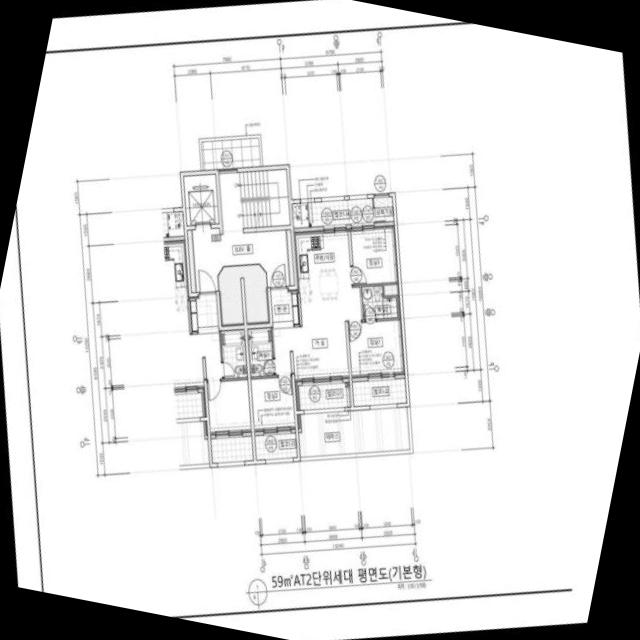background: (0, 0, 640, 640)
space_balconi: (292, 198, 373, 228), (352, 378, 407, 406), (298, 382, 351, 410), (255, 432, 297, 460)
space_bedroom: (348, 319, 404, 378), (350, 225, 398, 285), (251, 376, 296, 431)
space_elevator: (183, 174, 219, 225)
space_elevator_hall: (192, 224, 289, 292)
space_front: (270, 288, 299, 328)
space_kitchen: (294, 229, 352, 302)
space_living_room: (272, 286, 362, 381)
space_other: (218, 264, 269, 326), (187, 230, 196, 292), (286, 229, 294, 285), (384, 283, 399, 295)
space_outdoor_room: (373, 196, 394, 222)
space_staircase: (219, 169, 290, 234)
space_toilet: (247, 327, 274, 376), (361, 285, 397, 319)
